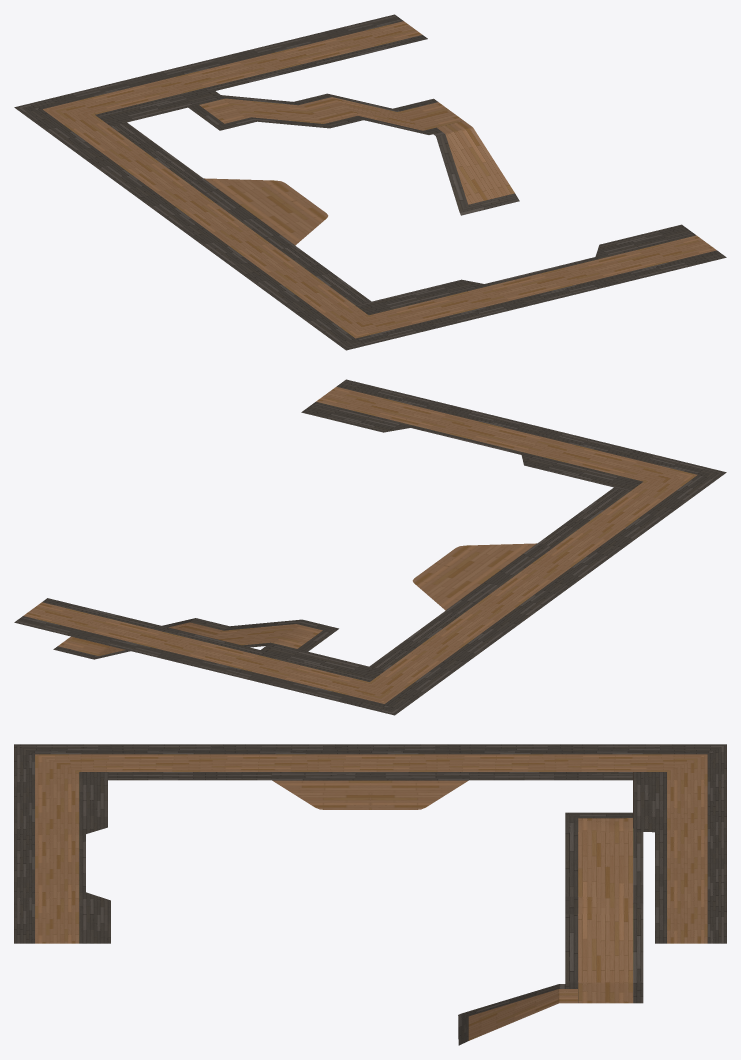
The model's file is ScienceBuilding_MainHall_NavFloor.fbx.
The picture shows the model from 3 angles, top to bottom: view 1: azimuth 30°, elevation 25°; view 2: azimuth 150°, elevation 25°; view 3: azimuth 270°, elevation 25°; orthographic projection. The views are drawn at different scales.
Parts seen in each view (by area): view 1: ScienceBuilding_MainHall_NavFloor; view 2: ScienceBuilding_MainHall_NavFloor; view 3: ScienceBuilding_MainHall_NavFloor.
Part boxes in pixels (box(x1,y1,x2,y2)): ScienceBuilding_MainHall_NavFloor: box(14, 14, 726, 350); ScienceBuilding_MainHall_NavFloor: box(14, 379, 726, 715); ScienceBuilding_MainHall_NavFloor: box(14, 744, 726, 1045).
Bounding box in the file's own units: 3761 × 899 × 5682.
